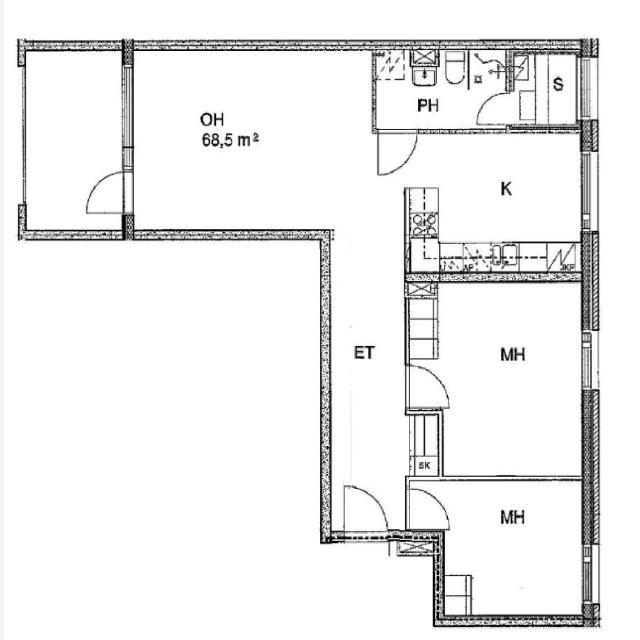door: (121, 48, 374, 232), (19, 50, 129, 232), (332, 478, 396, 542), (79, 165, 132, 218), (402, 358, 451, 411), (374, 122, 419, 178), (403, 481, 452, 531), (472, 86, 516, 128)
window: (116, 62, 139, 150), (577, 145, 600, 232), (575, 52, 600, 124), (578, 326, 602, 395), (578, 542, 599, 606)
zone: (408, 275, 590, 480), (404, 130, 588, 278), (428, 477, 588, 623), (18, 50, 127, 232), (511, 47, 582, 132), (374, 122, 420, 179), (406, 236, 441, 272)
